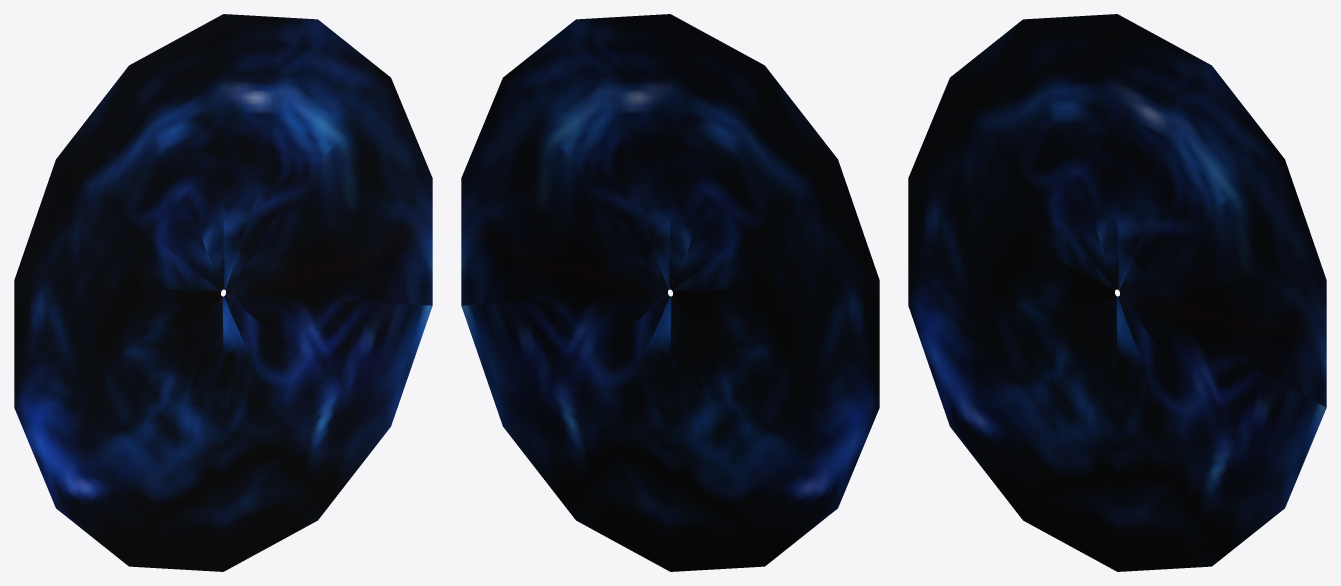
Rendered from chuansong2_start_2.FBX.
3 renders of one model, left to right at view 1: azimuth 30°, elevation 25°; view 2: azimuth 150°, elevation 25°; view 3: azimuth 330°, elevation 25°, orthographic.
Parts seen in each view (by area): view 1: 2_; view 2: 2_; view 3: 2_.
Boxes of the visible parts, x1,y1,x2,y2 form: 2_: [14, 14, 432, 571]; 2_: [461, 14, 879, 571]; 2_: [908, 14, 1326, 571].
Bounding box in the file's own units: 3 × 3.83 × 6.23e-07.
1 material, 1 textured.
